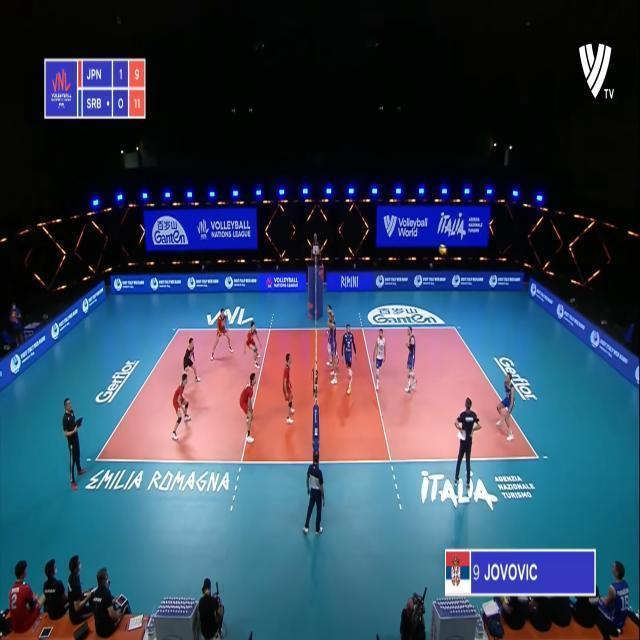volleyball: (438, 244, 446, 256)
